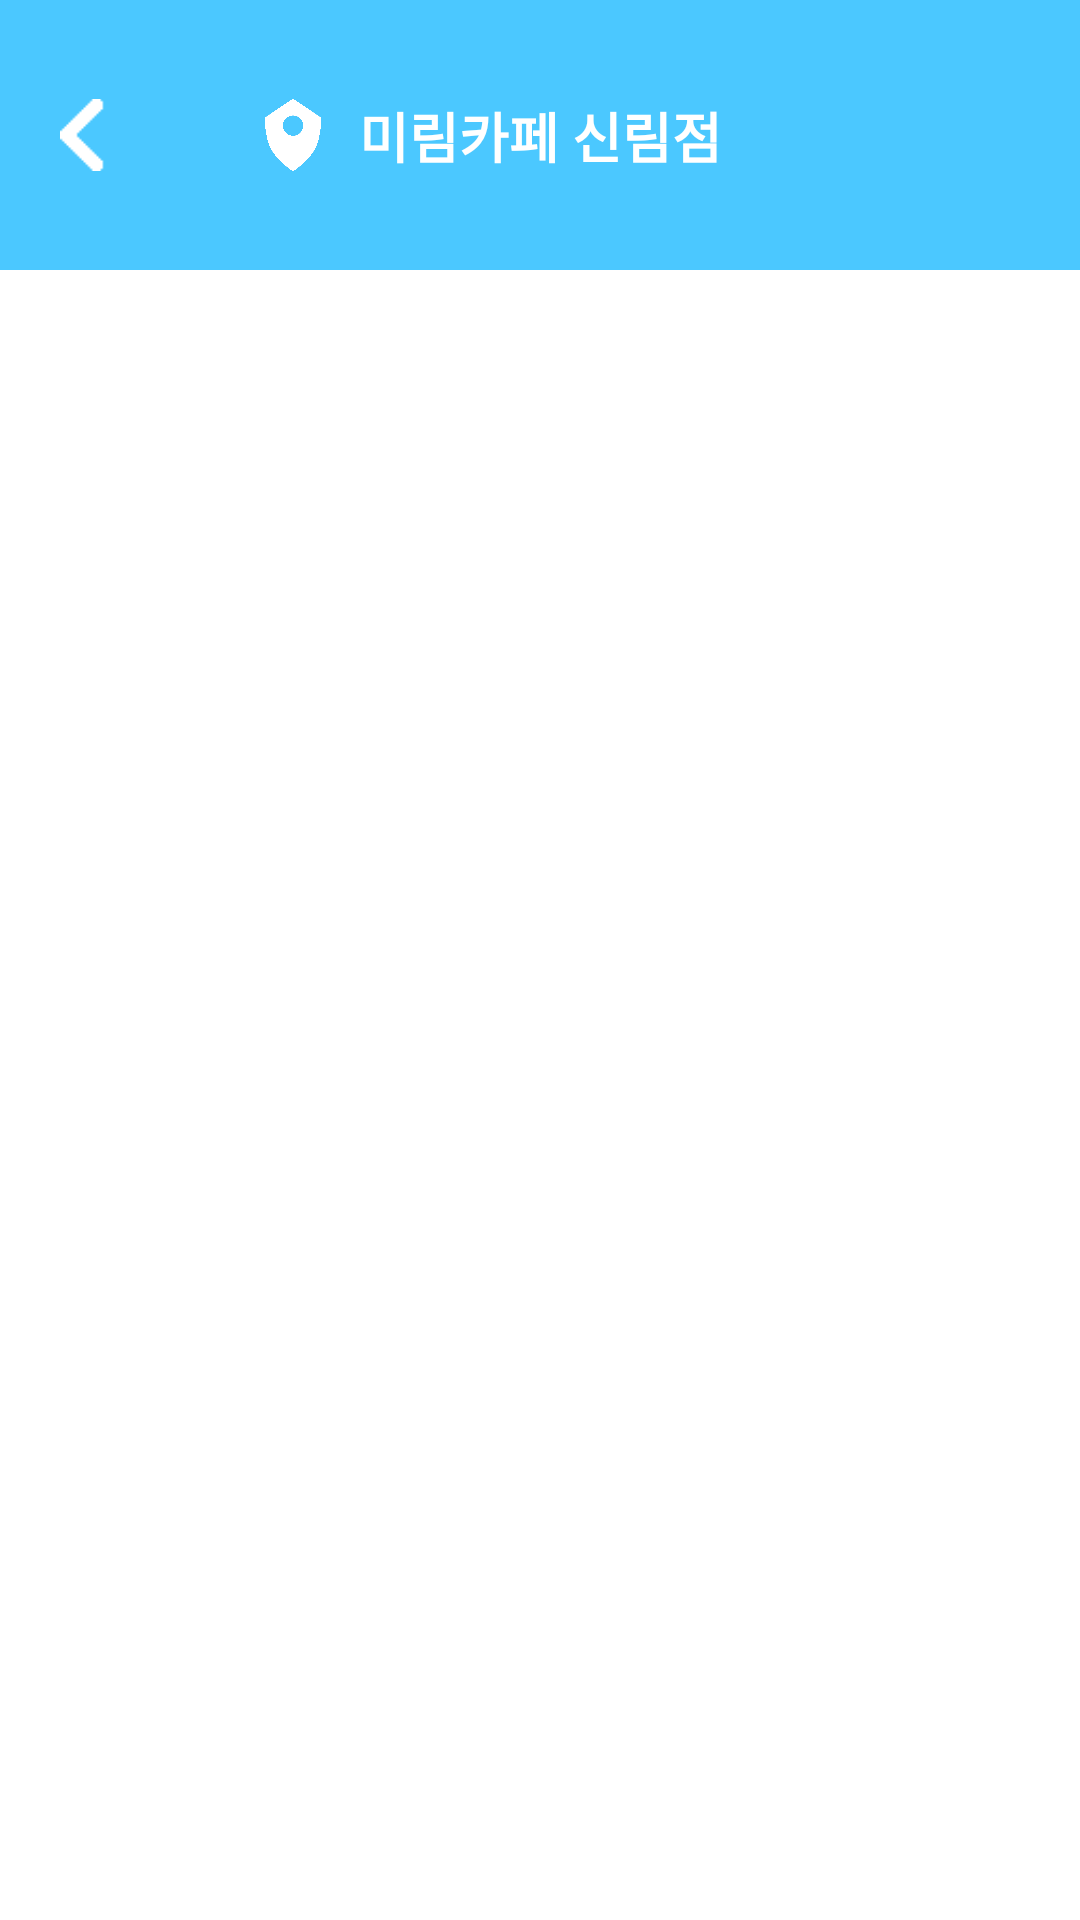

Point at icon controls on the screen. Image size 1080px x 1920px, points as [x,y].
back: [82,135]
